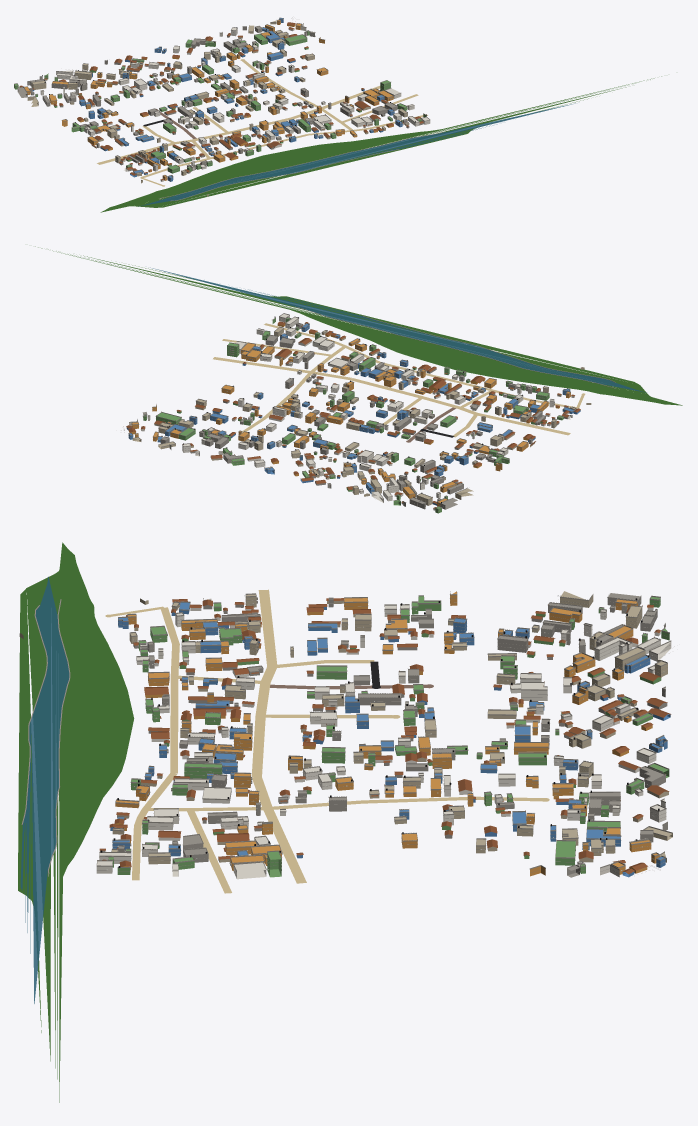
The model's file is zone_t-4_2.glb.
3 renders of one model, top to bottom at view 1: azimuth 30°, elevation 25°; view 2: azimuth 150°, elevation 25°; view 3: azimuth 270°, elevation 25°, orthographic. The views are drawn at different scales.
Parts seen in each view (by area): view 1: parapet_t-4_2, zone_humide_t-4_2, bld_peinture_blanc_t-4_2-col, bld_peinture_ocre_t-4_2-col, bld_peinture_vert_t-4_2-col, toit_tole_t-4_2, bld_beton_t-4_2-col, bld_peinture_ecaillee_t-4_2-col, zone_eau_t-4_2, bld_peinture_bleu_t-4_2-col, route_residential_terre_t-4_2, route_tertiary_terre_t-4_2 (+2 smaller); view 2: zone_humide_t-4_2, parapet_t-4_2, bld_peinture_blanc_t-4_2-col, bld_peinture_ocre_t-4_2-col, toit_tole_t-4_2, bld_peinture_vert_t-4_2-col, bld_beton_t-4_2-col, bld_peinture_ecaillee_t-4_2-col, zone_eau_t-4_2, bld_peinture_bleu_t-4_2-col, route_residential_terre_t-4_2, route_tertiary_terre_t-4_2 (+2 smaller); view 3: zone_humide_t-4_2, parapet_t-4_2, bld_peinture_blanc_t-4_2-col, bld_peinture_ocre_t-4_2-col, toit_tole_t-4_2, zone_eau_t-4_2, bld_peinture_vert_t-4_2-col, bld_peinture_ecaillee_t-4_2-col, bld_beton_t-4_2-col, bld_peinture_bleu_t-4_2-col, route_residential_terre_t-4_2, route_tertiary_terre_t-4_2 (+2 smaller).
Boxes of the visible parts, left/top/right/bottom form: parapet_t-4_2: left=14, top=17, right=430, bottom=178; zone_humide_t-4_2: left=100, top=76, right=661, bottom=212; bld_peinture_blanc_t-4_2-col: left=40, top=24, right=430, bottom=181; bld_peinture_ocre_t-4_2-col: left=24, top=20, right=393, bottom=180; bld_peinture_vert_t-4_2-col: left=14, top=31, right=426, bottom=173; toit_tole_t-4_2: left=19, top=22, right=423, bottom=180; bld_beton_t-4_2-col: left=17, top=26, right=423, bottom=173; bld_peinture_ecaillee_t-4_2-col: left=27, top=20, right=409, bottom=196; zone_eau_t-4_2: left=138, top=103, right=575, bottom=206; bld_peinture_bleu_t-4_2-col: left=32, top=18, right=402, bottom=181; route_residential_terre_t-4_2: left=140, top=59, right=427, bottom=178; route_tertiary_terre_t-4_2: left=97, top=86, right=380, bottom=164; zone_humide_t-4_2: left=35, top=246, right=682, bottom=405; parapet_t-4_2: left=121, top=313, right=576, bottom=509; bld_peinture_blanc_t-4_2-col: left=129, top=314, right=574, bottom=510; bld_peinture_ocre_t-4_2-col: left=128, top=324, right=570, bottom=506; toit_tole_t-4_2: left=126, top=321, right=580, bottom=508; bld_peinture_vert_t-4_2-col: left=143, top=318, right=563, bottom=513; bld_beton_t-4_2-col: left=142, top=323, right=567, bottom=509; bld_peinture_ecaillee_t-4_2-col: left=132, top=324, right=591, bottom=505; zone_eau_t-4_2: left=150, top=267, right=645, bottom=392; bld_peinture_bleu_t-4_2-col: left=126, top=324, right=580, bottom=505; route_residential_terre_t-4_2: left=222, top=323, right=577, bottom=437; route_tertiary_terre_t-4_2: left=213, top=357, right=570, bottom=435; zone_humide_t-4_2: left=18, top=542, right=134, bottom=1102; parapet_t-4_2: left=96, top=591, right=674, bottom=871; bld_peinture_blanc_t-4_2-col: left=96, top=598, right=671, bottom=879; bld_peinture_ocre_t-4_2-col: left=115, top=591, right=659, bottom=876; toit_tole_t-4_2: left=99, top=598, right=671, bottom=874; zone_eau_t-4_2: left=20, top=576, right=69, bottom=1003; bld_peinture_vert_t-4_2-col: left=108, top=596, right=669, bottom=877; bld_peinture_ecaillee_t-4_2-col: left=19, top=591, right=672, bottom=864; bld_beton_t-4_2-col: left=100, top=593, right=667, bottom=877; bld_peinture_bleu_t-4_2-col: left=110, top=602, right=670, bottom=877; route_residential_terre_t-4_2: left=132, top=607, right=549, bottom=893; route_tertiary_terre_t-4_2: left=251, top=589, right=306, bottom=883.
Bounding box in the file's own units: 1045 × 15.9 × 513.
